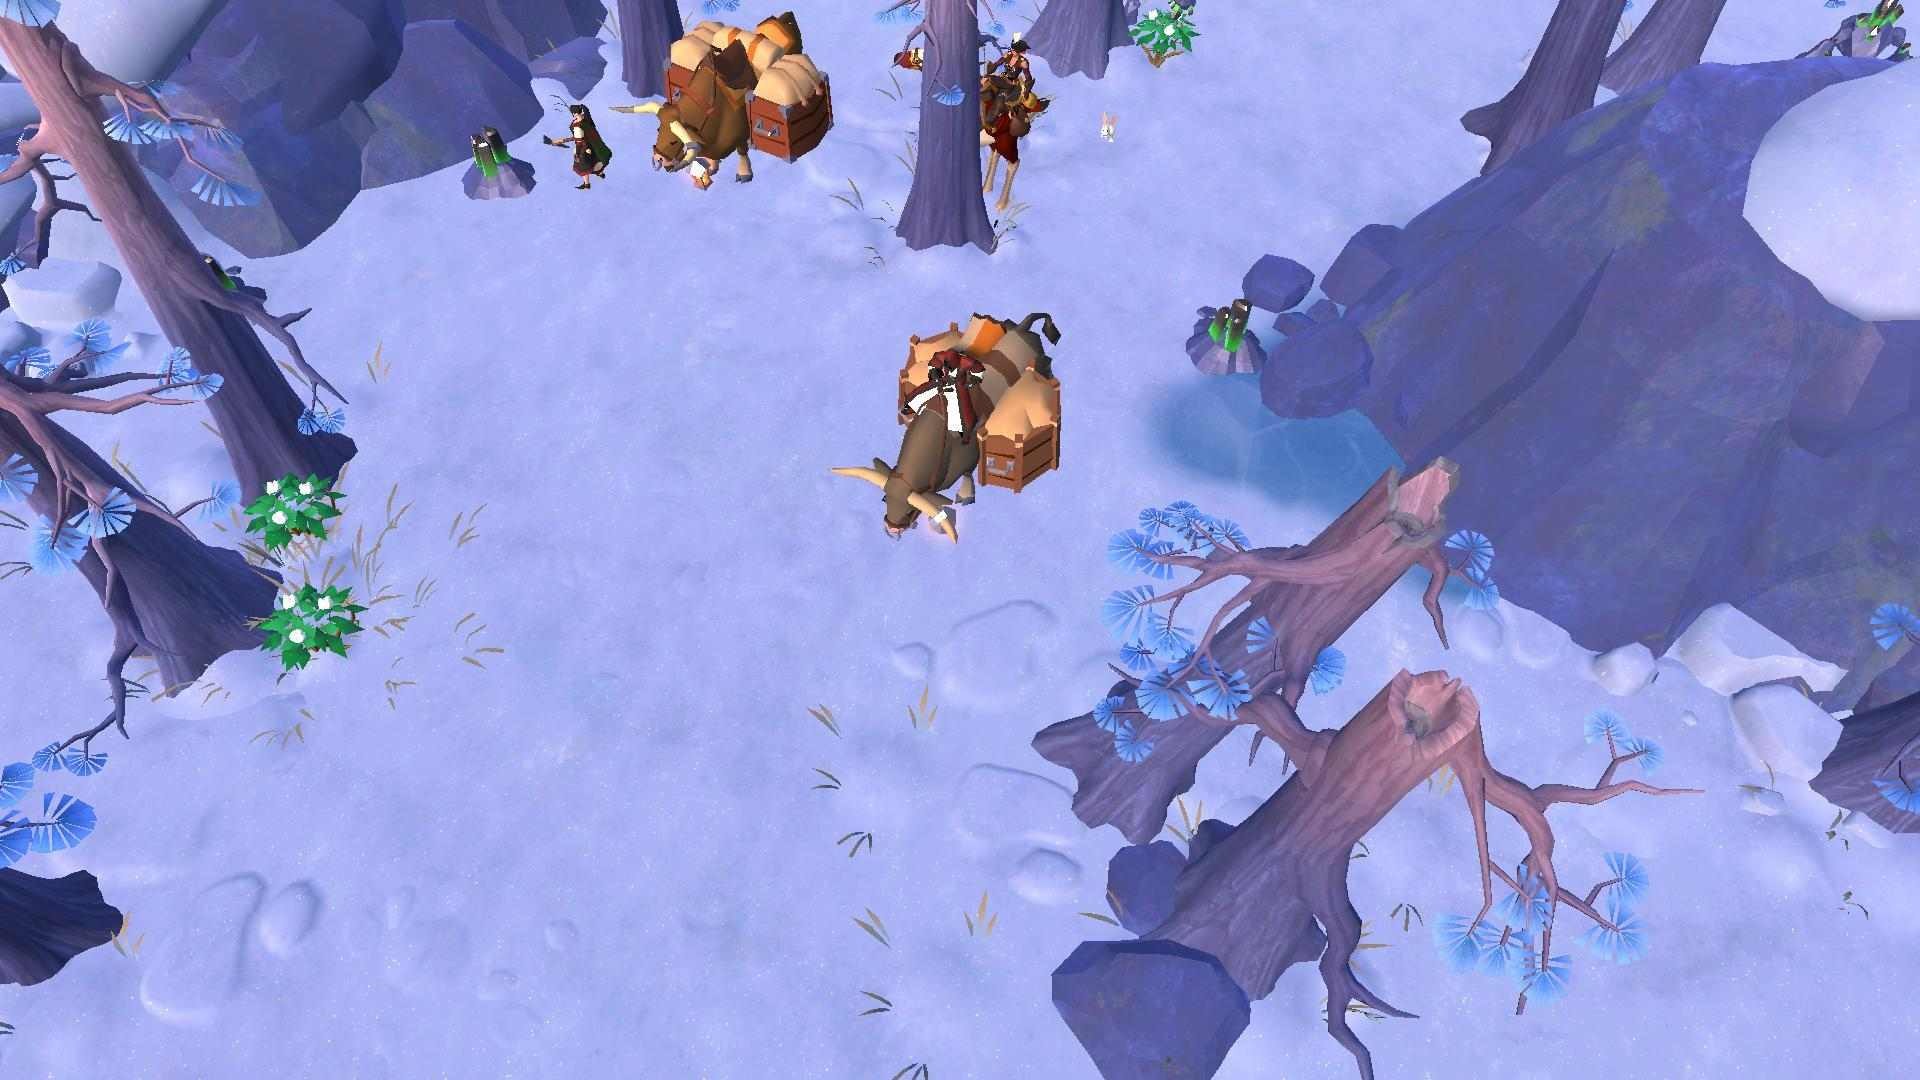fiber_t3: (258, 584, 363, 670), (251, 468, 338, 547), (1126, 3, 1208, 73)
ore_t3: (1201, 284, 1257, 353), (467, 116, 508, 183)
